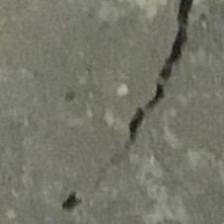Crack: (109, 0, 206, 191)
